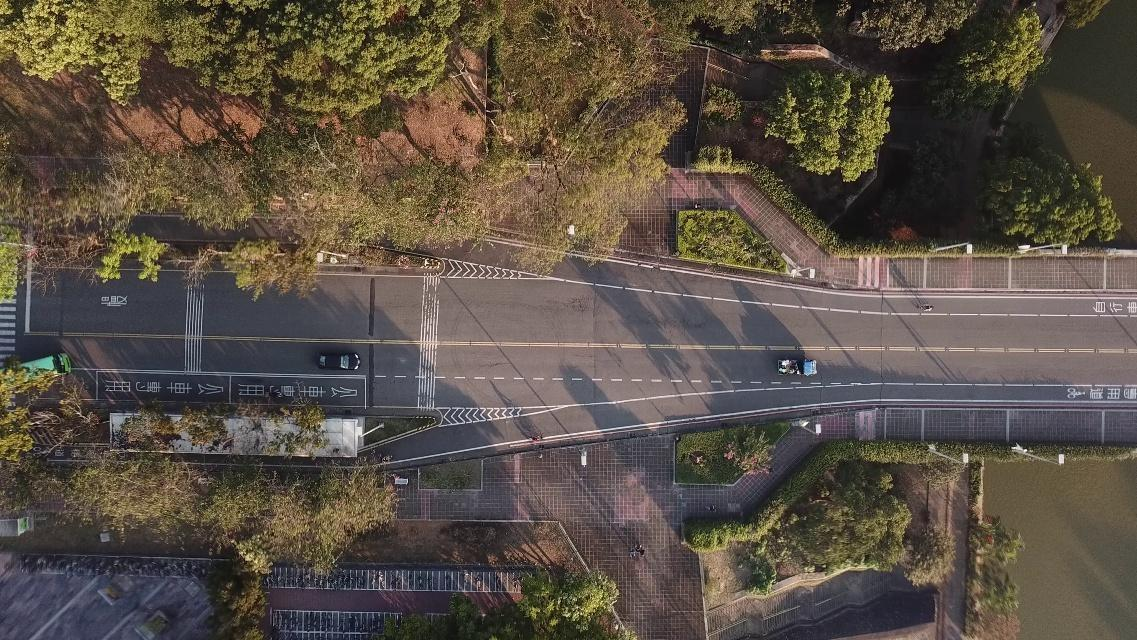Car: (318, 346, 362, 376)
